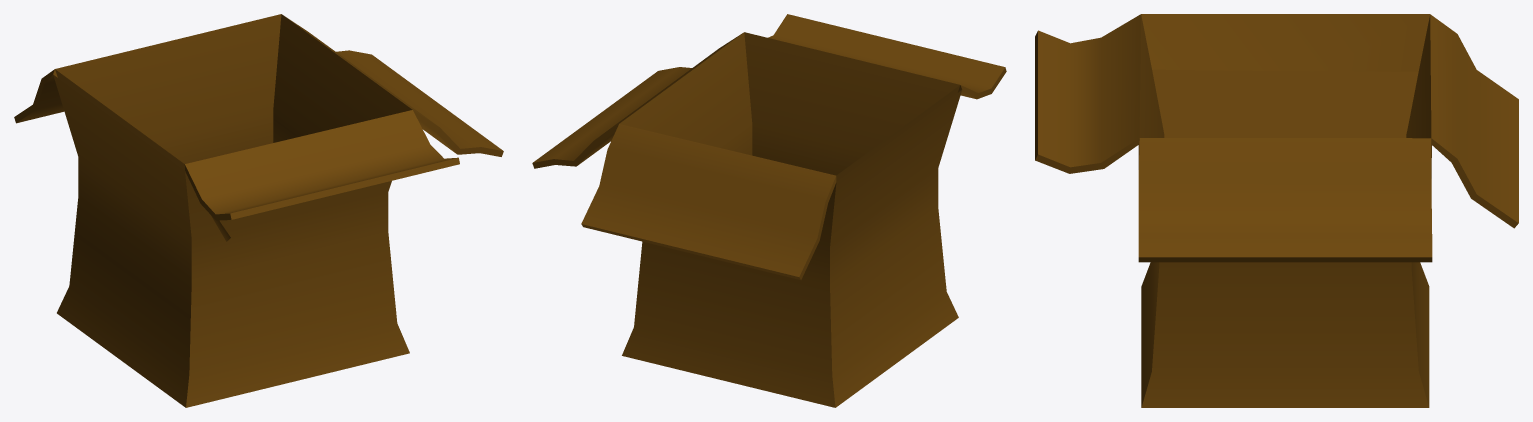
The model's file is Caja_01.fbx.
The picture shows the model from 3 angles, left to right: view 1: azimuth 30°, elevation 25°; view 2: azimuth 150°, elevation 25°; view 3: azimuth 270°, elevation 25°; orthographic projection. The views are drawn at different scales.
Visible parts, largest first — view 1: Caja_01; view 2: Caja_01; view 3: Caja_01.
Part boxes in pixels (<box>): Caja_01: <box>14,14,503,407</box>; Caja_01: <box>532,14,1006,407</box>; Caja_01: <box>1035,14,1518,407</box>.
Size of the model in its own units: 111 by 81.19 by 131.
